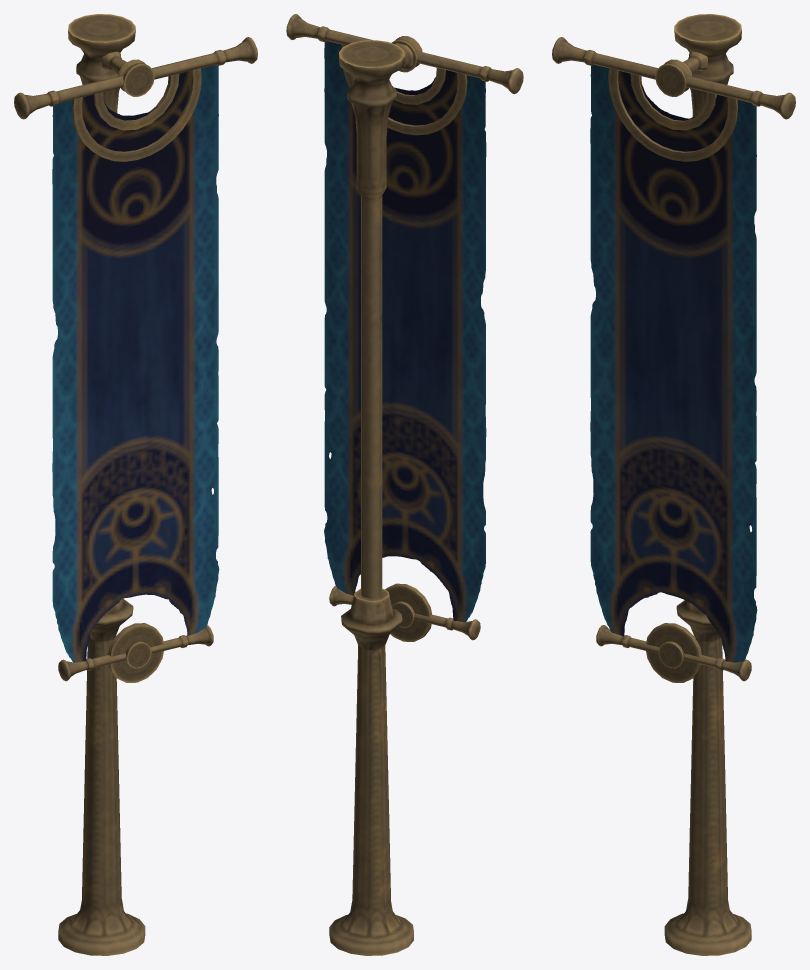
File: ancients_banner_standing_01.glb
The picture shows the model from 3 angles, left to right: view 1: azimuth 30°, elevation 25°; view 2: azimuth 150°, elevation 25°; view 3: azimuth 330°, elevation 25°; orthographic projection. The views are drawn at different scales.
Parts seen in each view (by area): view 1: ancients_banner_standing_01_a; view 2: ancients_banner_standing_01_a; view 3: ancients_banner_standing_01_a.
Boxes of the visible parts, left/top/right/bottom form: ancients_banner_standing_01_a: left=14, top=14, right=257, bottom=955; ancients_banner_standing_01_a: left=286, top=14, right=523, bottom=955; ancients_banner_standing_01_a: left=552, top=14, right=795, bottom=955.
Size of the model in its own units: 2.78 by 10.28 by 1.29.
Materials: 2 (2 with a texture image).
